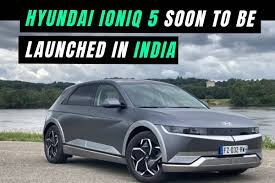Honda Ioniq: (38, 71, 269, 183)
